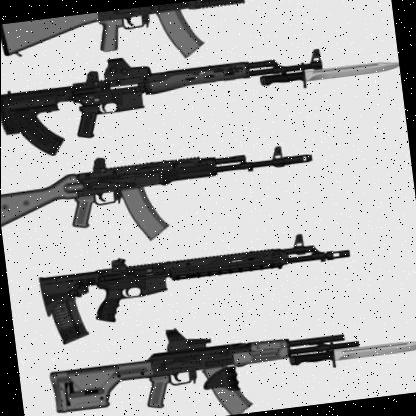rifle: (0, 122, 321, 253), (34, 223, 361, 346), (0, 42, 310, 163), (39, 318, 351, 416), (0, 0, 339, 83)
